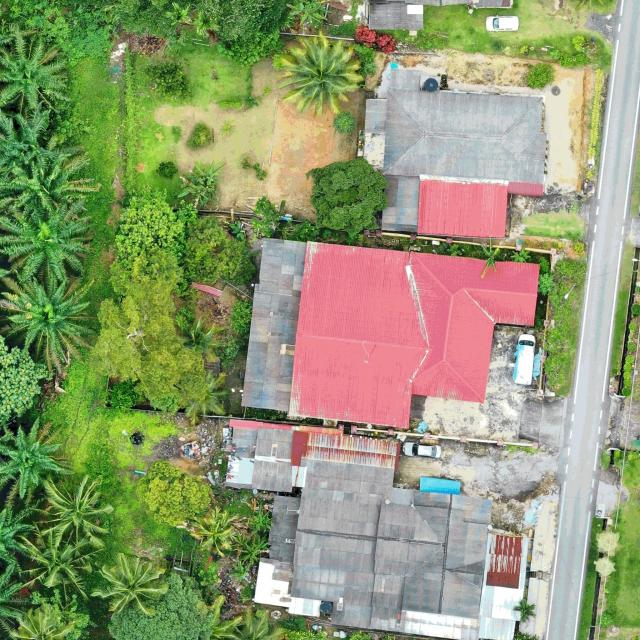Tree: (90, 246, 208, 417), (0, 193, 98, 286), (0, 267, 93, 364), (114, 188, 192, 290), (274, 34, 362, 119), (107, 571, 210, 640), (308, 156, 390, 238), (0, 153, 104, 217), (195, 0, 286, 70), (17, 526, 100, 595), (0, 105, 86, 171), (0, 419, 65, 505), (183, 214, 258, 288), (135, 458, 211, 528), (36, 475, 112, 545), (0, 37, 63, 114), (93, 553, 165, 619), (171, 309, 227, 366), (186, 506, 242, 558), (1, 607, 76, 640), (179, 161, 223, 207), (144, 61, 186, 102), (543, 351, 575, 392), (286, 0, 332, 27), (108, 380, 144, 413), (236, 534, 271, 566), (480, 238, 503, 278), (247, 504, 275, 536), (525, 64, 554, 90), (332, 109, 358, 135), (537, 272, 557, 296), (156, 160, 179, 179), (511, 247, 531, 263)
